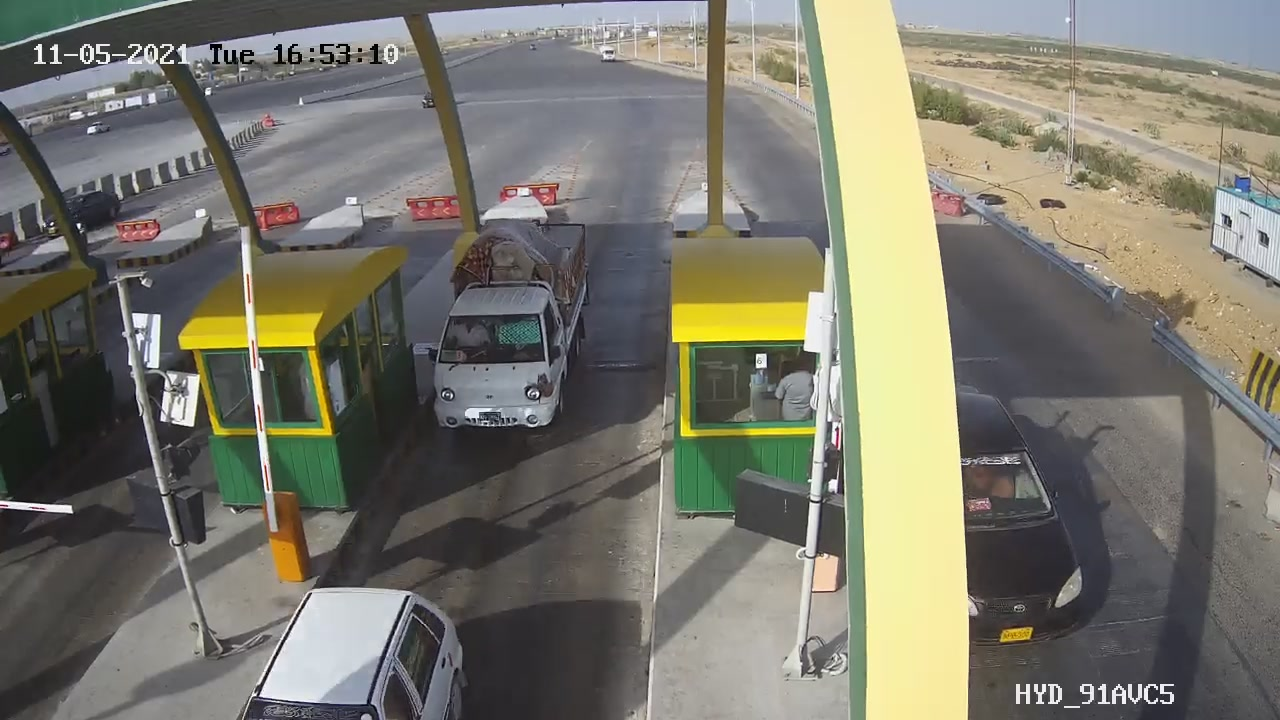F2: (415, 210, 606, 446)
